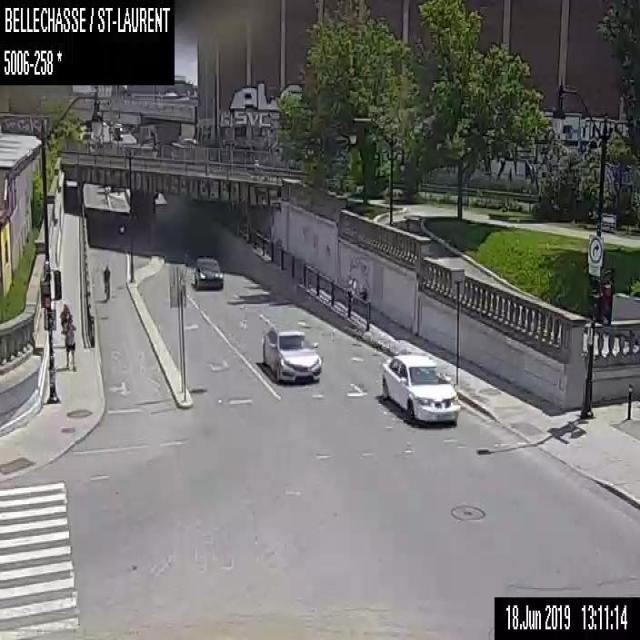cyclist: (103, 265, 110, 300)
pedestrian: (60, 320, 76, 371), (59, 303, 72, 330), (348, 276, 356, 297), (359, 284, 367, 300)
vehicle: (382, 353, 459, 423), (261, 326, 321, 384), (193, 256, 223, 290)
